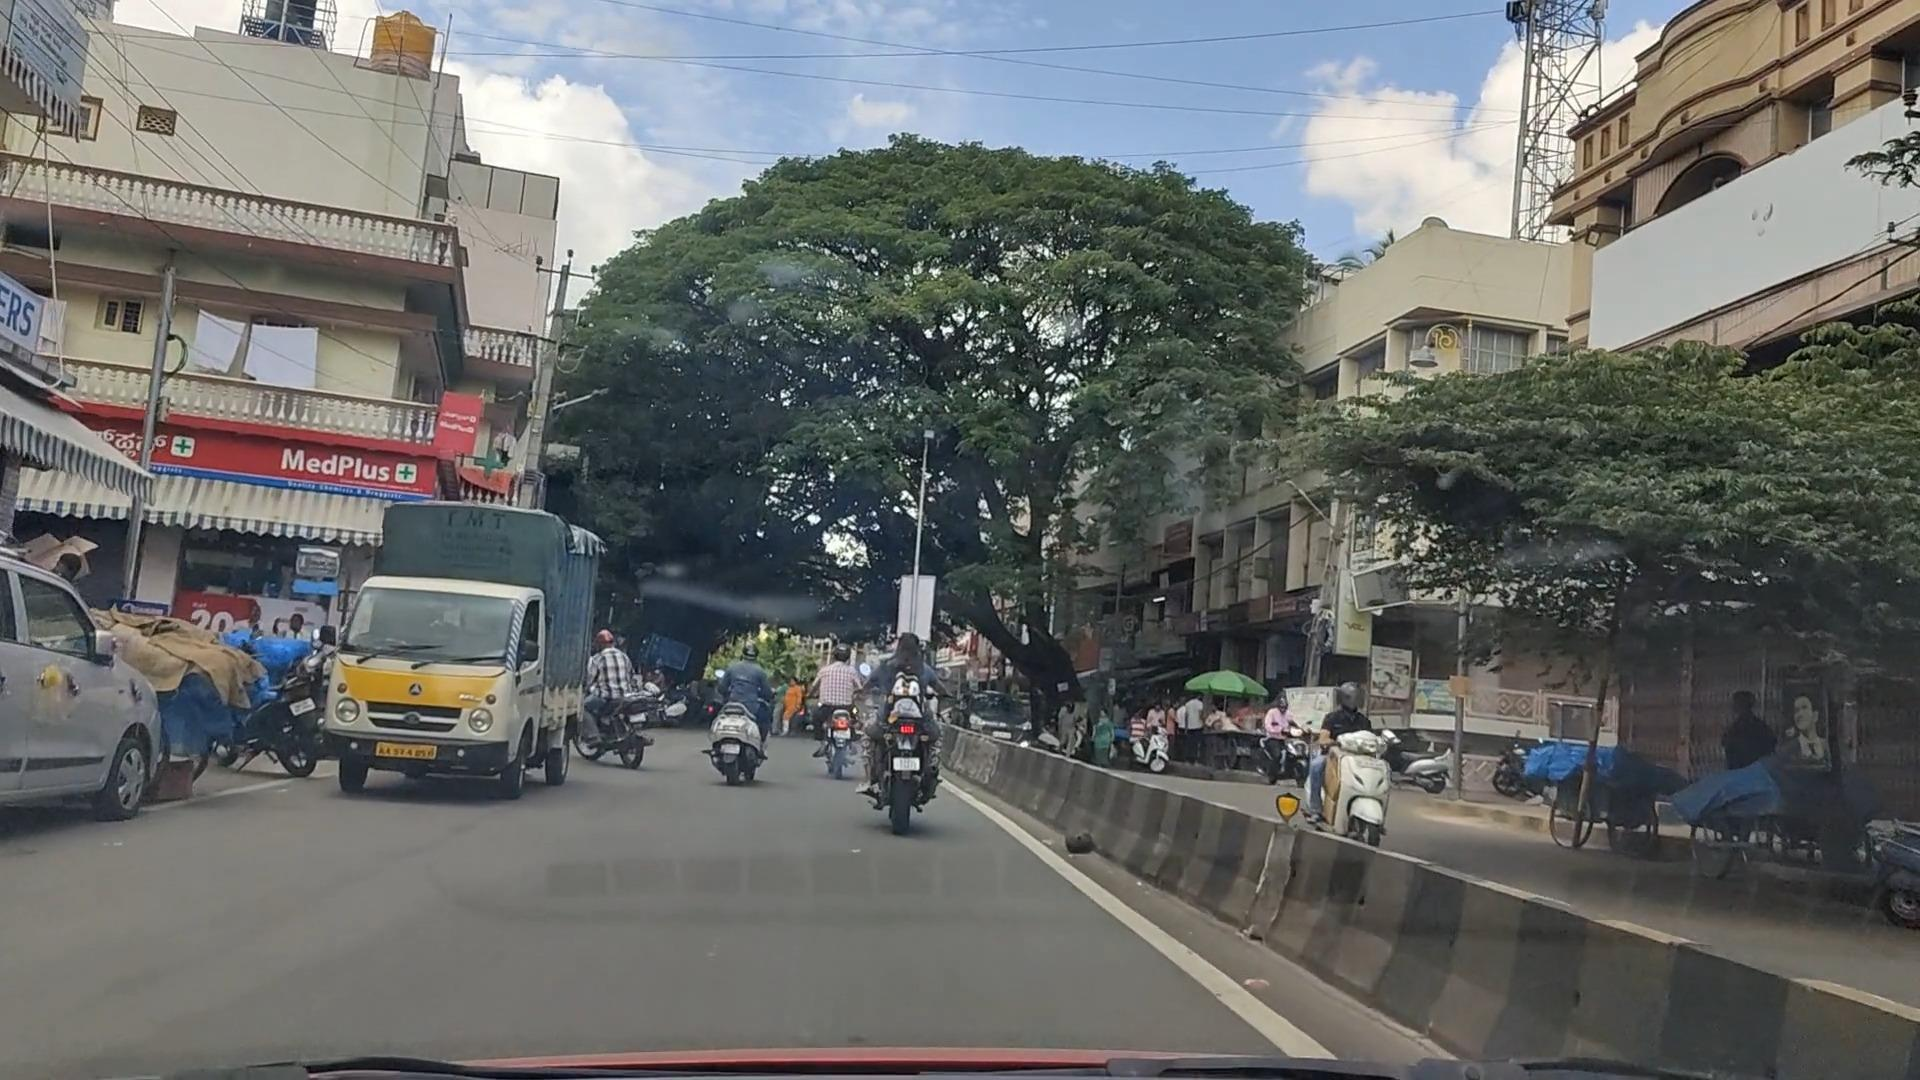HMV: (357, 488, 591, 793)
LMV: (845, 636, 951, 819), (703, 647, 799, 811)
